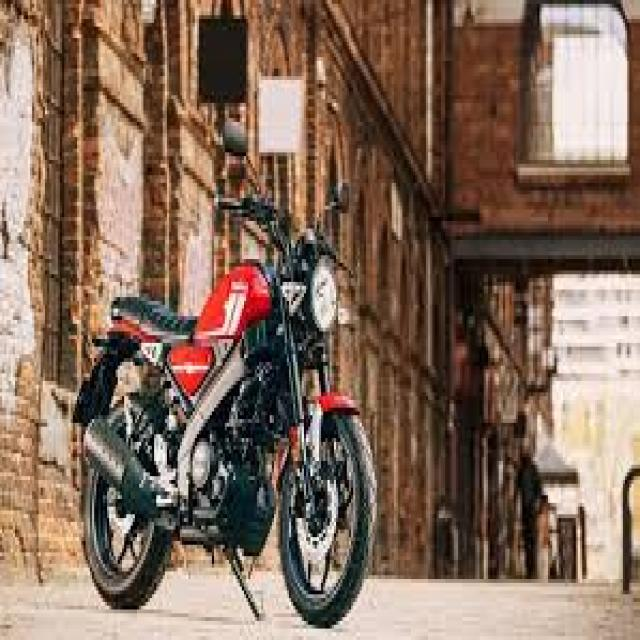MOTORCYCLE: (75, 198, 376, 624)
